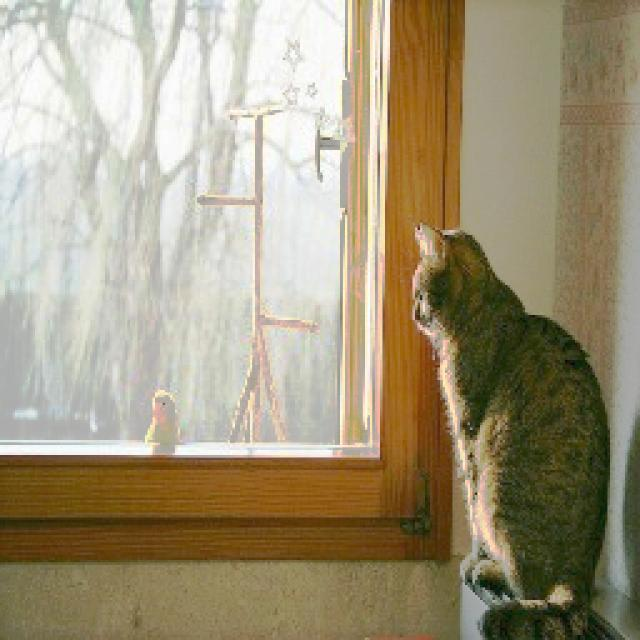cat: (366, 201, 640, 631)
